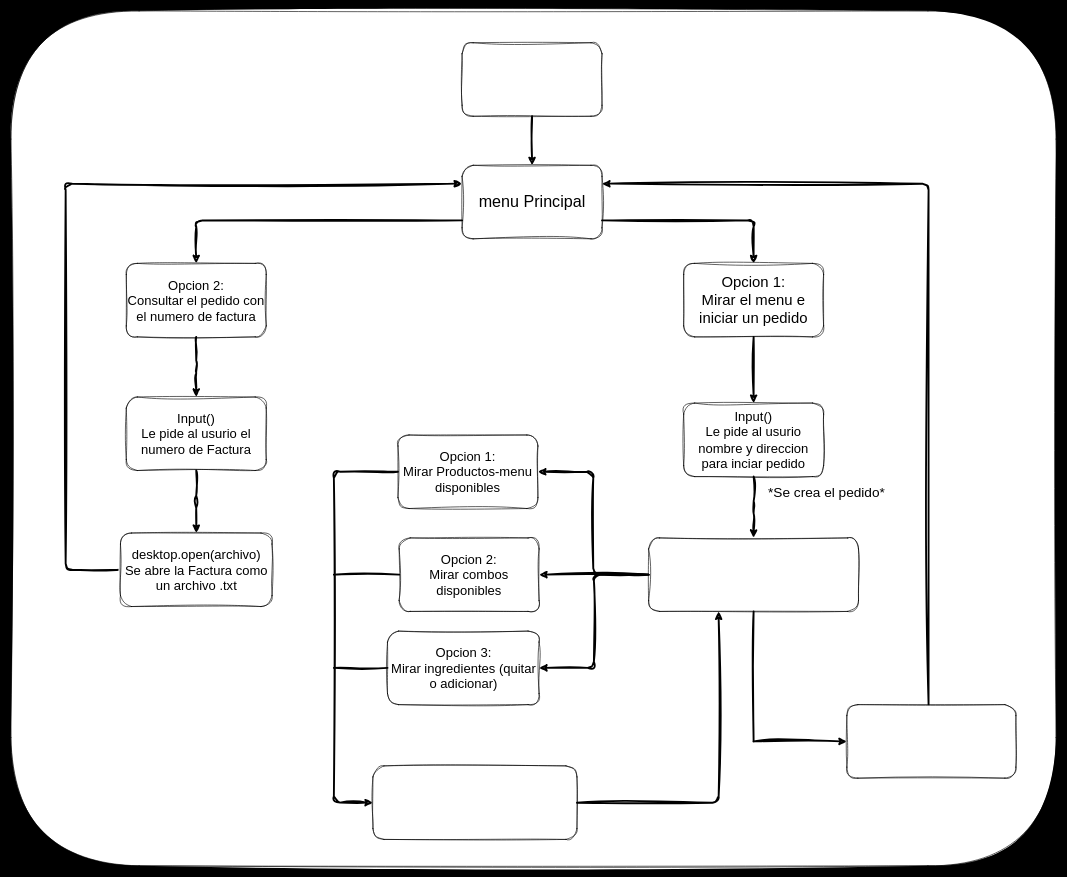
The diagram is 1067 pixels wide and 877 high, and some of its shapes have lost their labels. The centre of each missing label's shape, as x and y in pixels:
input() Selecciona el prodcuto que quieres adicionar o regresa al menu: point 474,802
mostrarMenu(): point 753,574
Opcion 4: Finaliza pedido: point 931,741
Run Main: point 531,79
